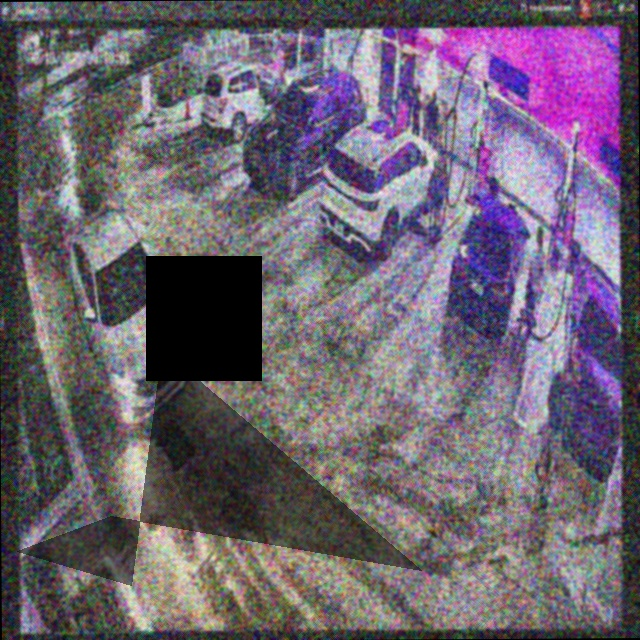Car: (64, 205, 191, 422), (320, 118, 438, 263), (242, 69, 367, 194), (447, 190, 529, 337)
